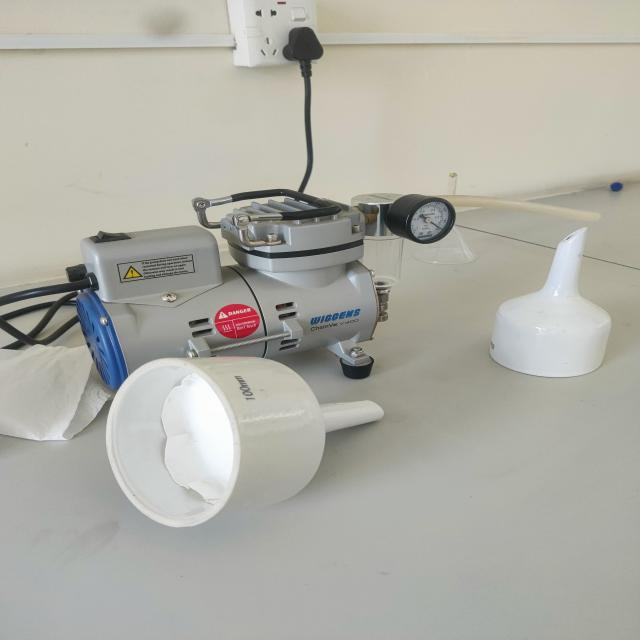Buchner_Funnel: (94, 316, 413, 548), (467, 200, 640, 416)
